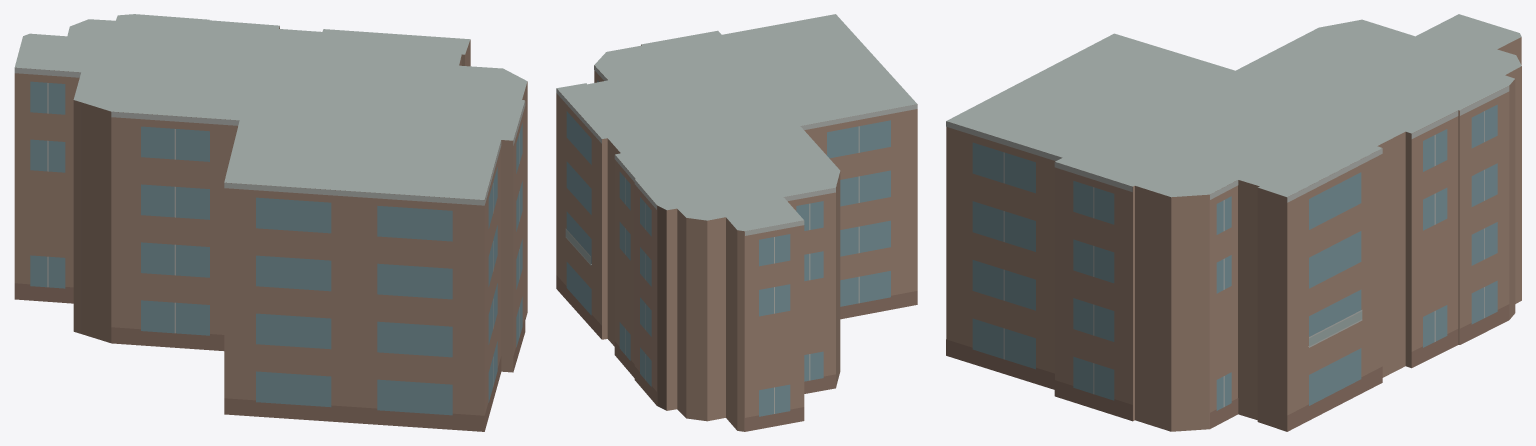
The model's file is survey-upis-32520343.glb.
The picture shows the model from 3 angles, left to right: view 1: azimuth 30°, elevation 25°; view 2: azimuth 150°, elevation 25°; view 3: azimuth 270°, elevation 25°; orthographic projection. The views are drawn at different scales.
Parts seen in each view (by area): view 1: survey-upis-32520343.tmp; view 2: survey-upis-32520343.tmp; view 3: survey-upis-32520343.tmp.
Boxes of the visible parts, bbox=[...] form: survey-upis-32520343.tmp: bbox=[14, 14, 527, 431]; survey-upis-32520343.tmp: bbox=[556, 14, 917, 431]; survey-upis-32520343.tmp: bbox=[946, 14, 1521, 431].
Size of the model in its own units: 17.06 by 10.18 by 22.65.
